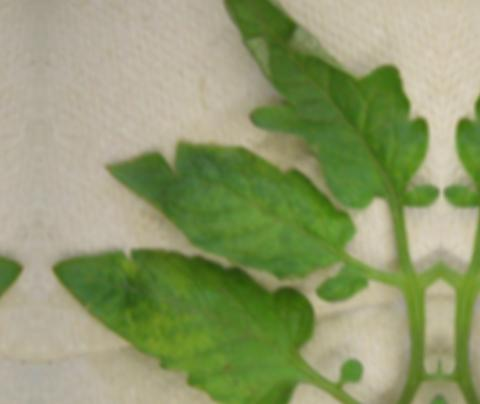Tomato leaf mosaic virus: (201, 0, 432, 208), (43, 245, 325, 404), (102, 151, 348, 276)
